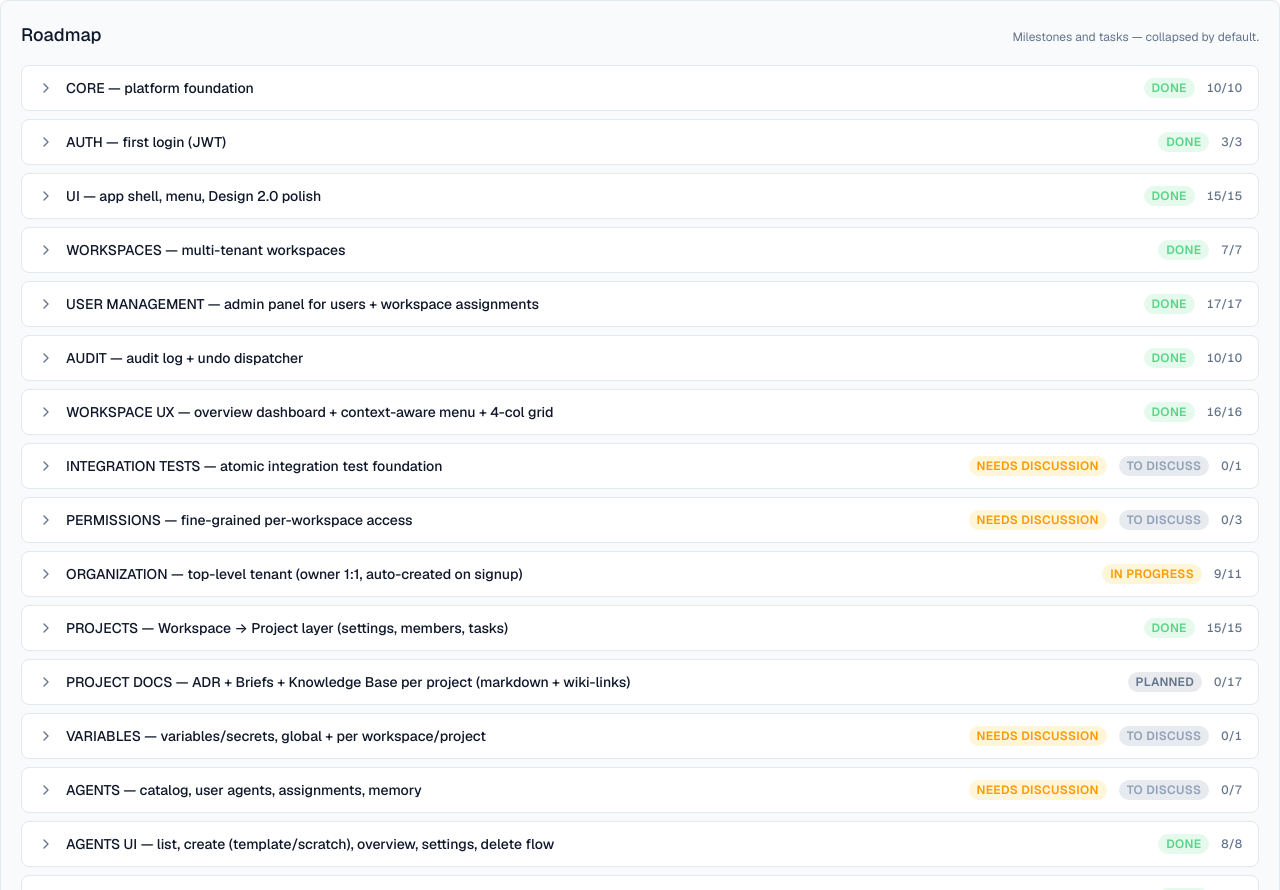
Test case: RoadmapPanel › should render the AUDIT milestone with BL-AUDIT tasks
Click the text "AUDIT — audit log + undo dispatcher" at (185, 358), box [66,349,304,367]
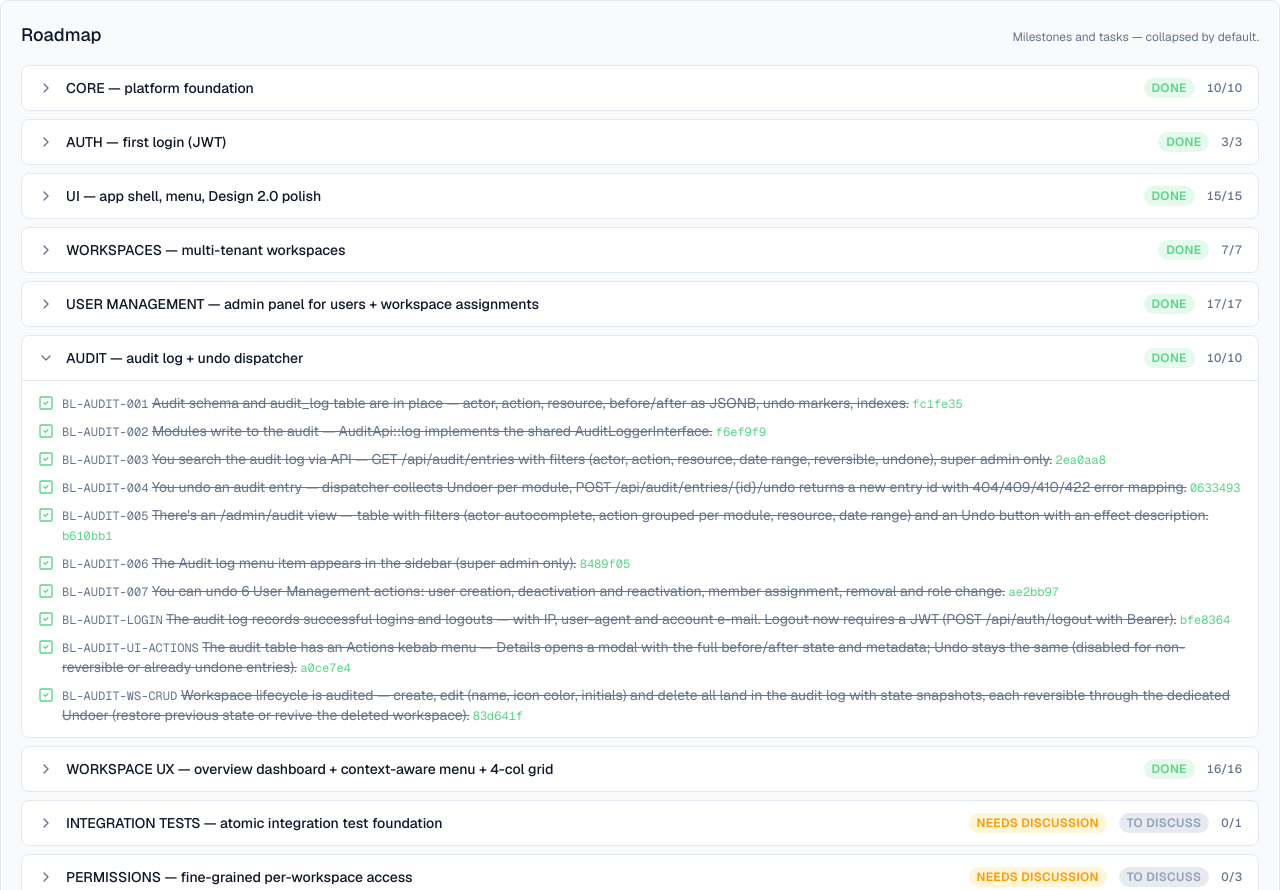
Now the text "BL-AUDIT-001" is shown, box [62,396,148,412]
Now the text "BL-AUDIT-007" is shown, box [62,584,148,600]
Now the text "undo an audit entry" is shown, box [152,478,1187,496]
